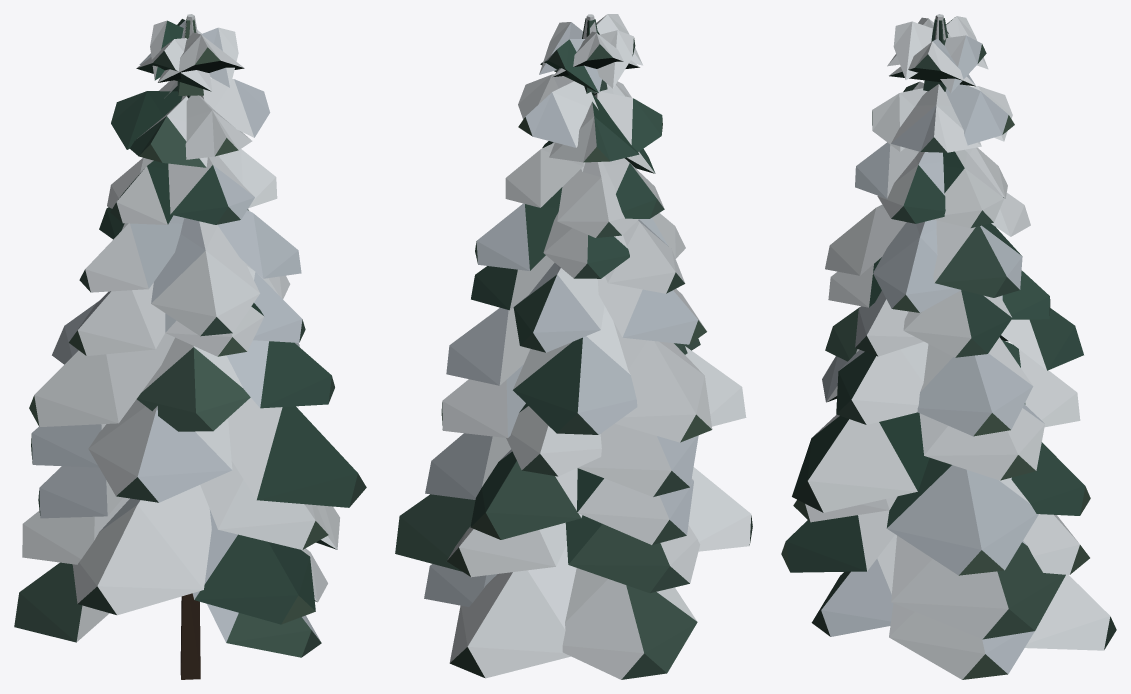
File: pine-small-snow.glb
3 views of the same model, side by side, from view 1: azimuth 30°, elevation 25°; view 2: azimuth 150°, elevation 25°; view 3: azimuth 270°, elevation 25° (orthographic). The views are drawn at different scales.
Parts seen in each view (by area): view 1: pine-small-snow; view 2: pine-small-snow; view 3: pine-small-snow.
Boxes of the visible parts, x1=… form: pine-small-snow: x1=14, y1=14, x2=366, y2=679; pine-small-snow: x1=395, y1=14, x2=752, y2=679; pine-small-snow: x1=781, y1=14, x2=1116, y2=679.
Bounding box in the file's own units: 1.98 × 4.02 × 1.91.
